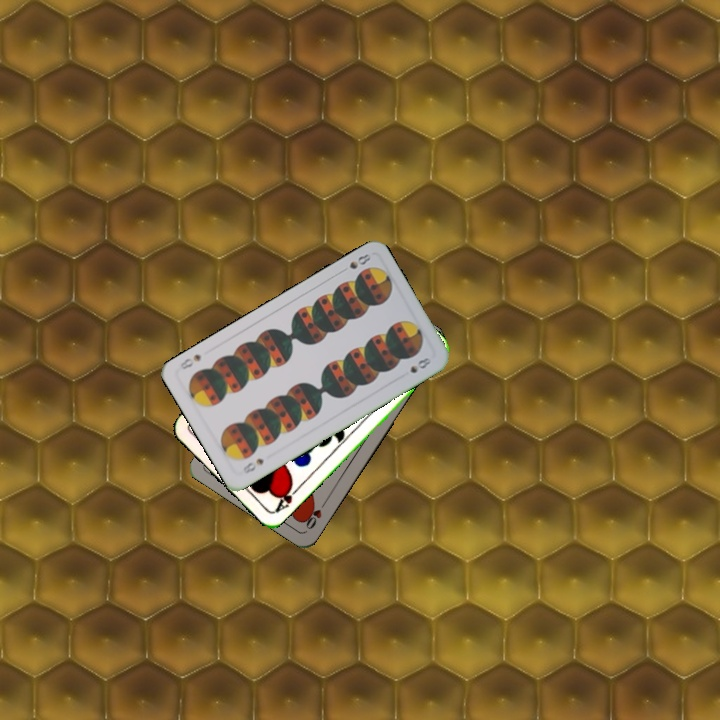HA: (271, 480, 303, 515)
HO: (300, 497, 329, 532)
S8: (336, 249, 374, 276), (239, 454, 267, 476)
